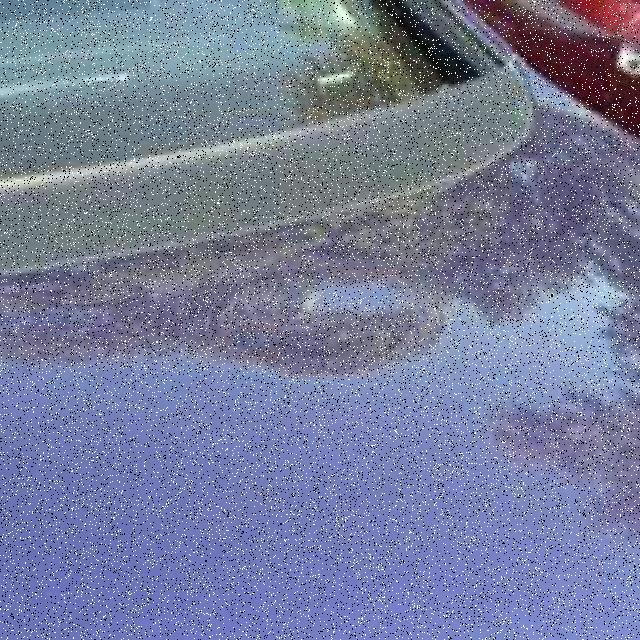bonnet-dent: (9, 168, 576, 636)
